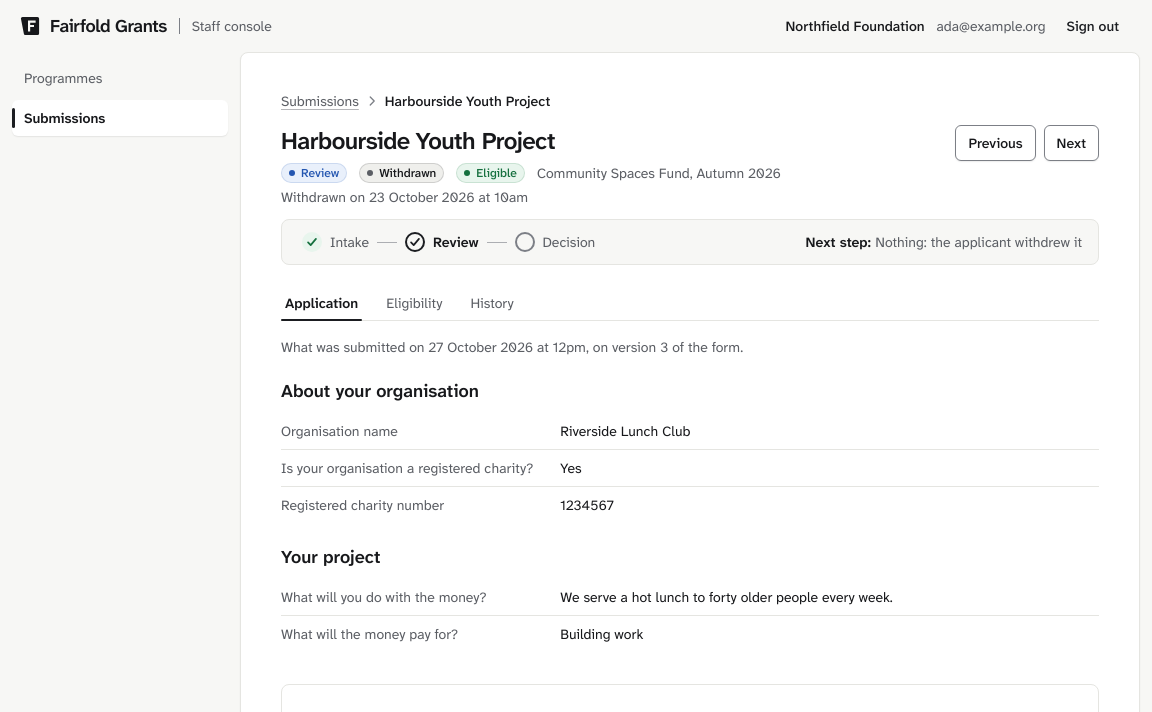
Test: a submission › shows the history as a timeline, newest first, with who did each thing
Expected: the panel named "Application" is shown, left=281, top=321, right=1099, bottom=652
Click the tab "History". click: click(492, 303)
box: left=466, top=285, right=518, bottom=321
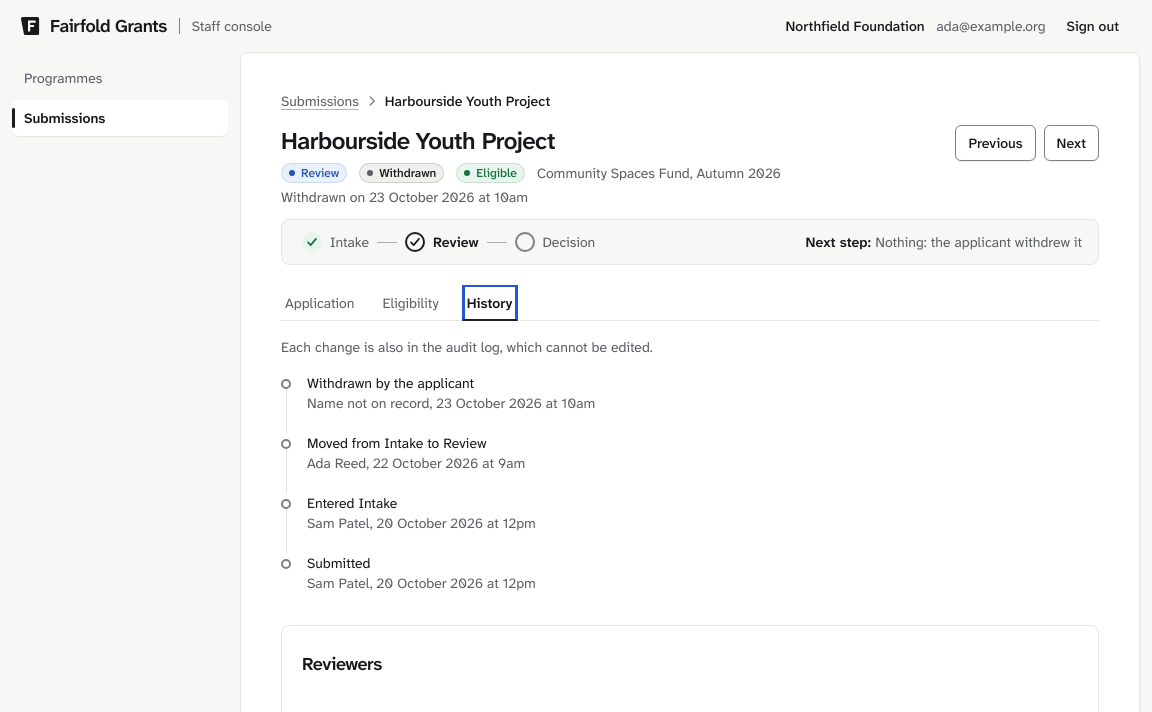
Expected: the text "Withdrawn on 23 October 2026 at 10am" is shown, left=281, top=187, right=528, bottom=207
Result: the list item that starts with "Withdrawn by the applicant" shows "Name not on record" at left=307, top=394, right=430, bottom=412
Result: the list item "Moved from Intake to Review Ada Reed, 22 October 2026 at 9am" is shown at left=281, top=434, right=525, bottom=472
